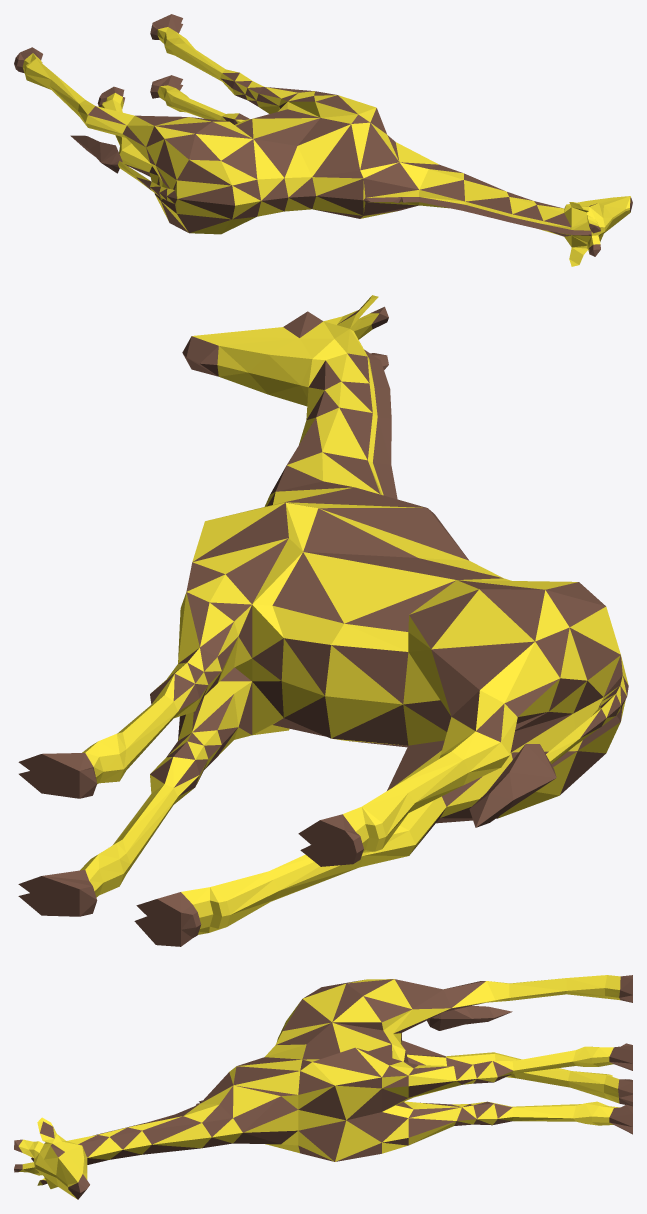
Rendered from 7b9550d3-7f11-4725-8167-7ef56bdd5e74.glb.
3 views of the same model, one above another, from view 1: azimuth 30°, elevation 25°; view 2: azimuth 150°, elevation 25°; view 3: azimuth 270°, elevation 25° (orthographic). The views are drawn at different scales.
Visible parts, largest first — view 1: pCube5; view 2: pCube5; view 3: pCube5.
Boxes of the visible parts, x1,y1,x2,y2 form: pCube5: (14,14,632,266); pCube5: (18,295,628,946); pCube5: (14,975,632,1199).
Bounding box in the file's own units: 622 × 164 × 893.
